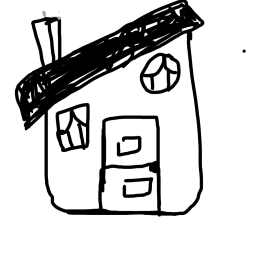chimney: (32, 13, 68, 63)
door: (92, 108, 171, 217)
open_window: (48, 96, 100, 152), (137, 48, 186, 97)
shaded_roof: (18, 0, 218, 138)
wall: (40, 92, 212, 228)
